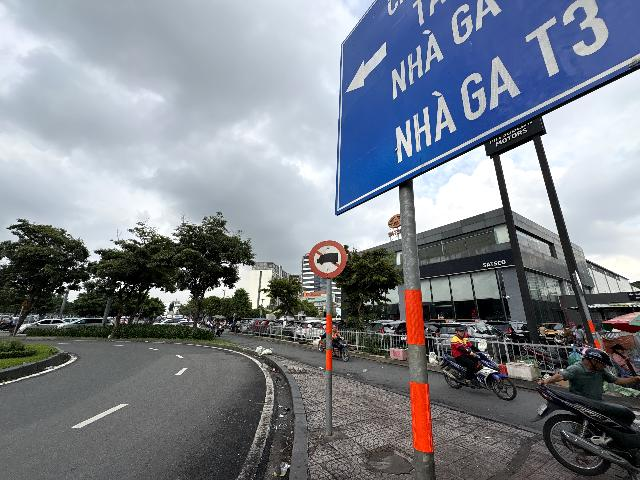cam-xe-tai: (308, 240, 347, 279)
